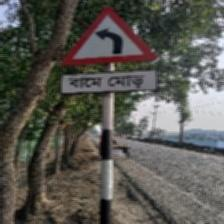Left-Turn: (60, 4, 161, 98)
